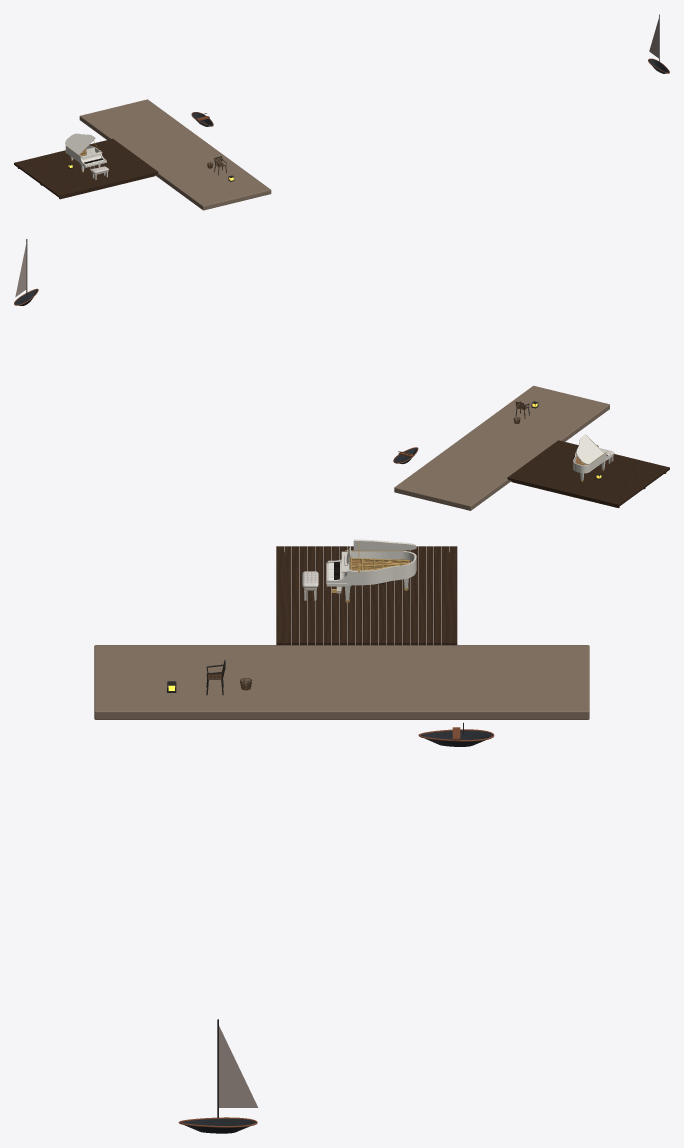
File: piano_seaside_material.glb
3 views of the same model, one above another, from view 1: azimuth 30°, elevation 25°; view 2: azimuth 150°, elevation 25°; view 3: azimuth 270°, elevation 25° (orthographic). The views are drawn at different scales.
Parts seen in each view (by area): view 1: S01 local sand patch, D01 deck plank 00, P02 raised lid; view 2: S01 local sand patch, D01 deck plank 22, P02 raised lid; view 3: S01 local sand patch, P01 grand piano curved rim and bottom, V02 triangular sail.
Part boxes in pixels (bbox=[...]): S01 local sand patch: bbox=[79, 99, 271, 210]; D01 deck plank 00: bbox=[57, 170, 158, 197]; P02 raised lid: bbox=[65, 133, 95, 154]; S01 local sand patch: bbox=[394, 385, 609, 510]; D01 deck plank 22: bbox=[507, 476, 620, 506]; P02 raised lid: bbox=[576, 434, 604, 464]; S01 local sand patch: bbox=[94, 645, 589, 719]; P01 grand piano curved rim and bottom: bbox=[327, 550, 416, 586]; V02 triangular sail: bbox=[219, 1026, 258, 1107].
Size of what is drawn, in the model's own units: 44.06 by 3.99 by 16.
16 materials, 1 textured.
